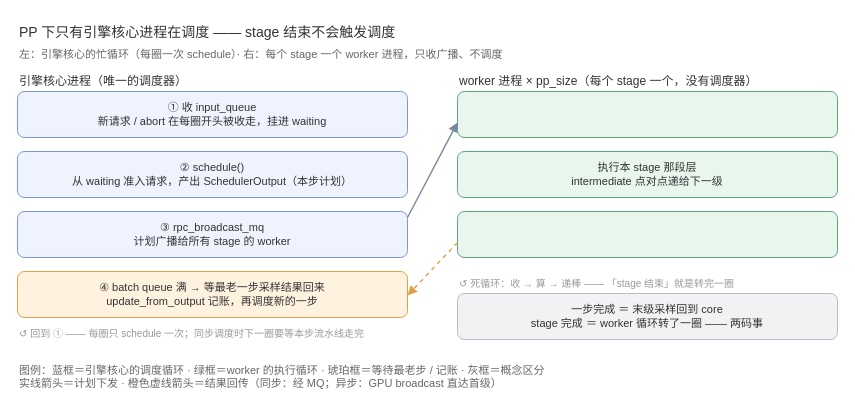
This 855x410 diagram has some shape labels left out. Each missing label, with the centre of its shape:
"worker_busy_loop 从广播队列 dequeue 下一步计划（计划早就到了，无缝接上）" goes at (x=647, y=114).
"末级 stage：采样 结果回传引擎核心" goes at (x=647, y=234).
